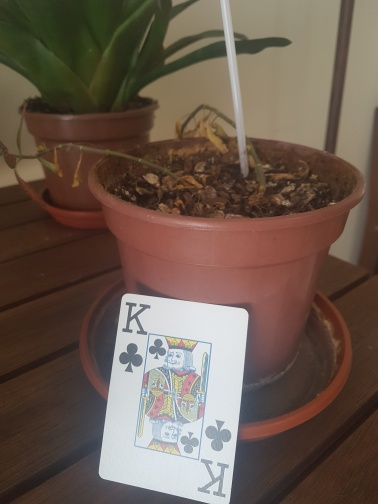king: (98, 292, 248, 504)
